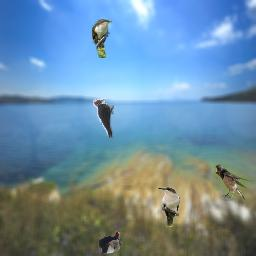Cuckoo: (158, 187, 180, 227), (92, 18, 112, 58)
Swallow: (214, 164, 254, 201)
Woodpecker: (93, 98, 114, 138), (99, 230, 122, 254)
